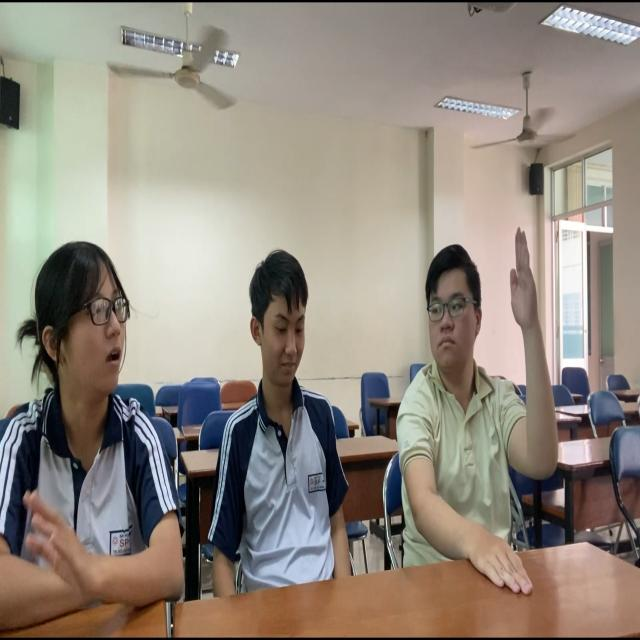raise_hand: (392, 219, 565, 609)
